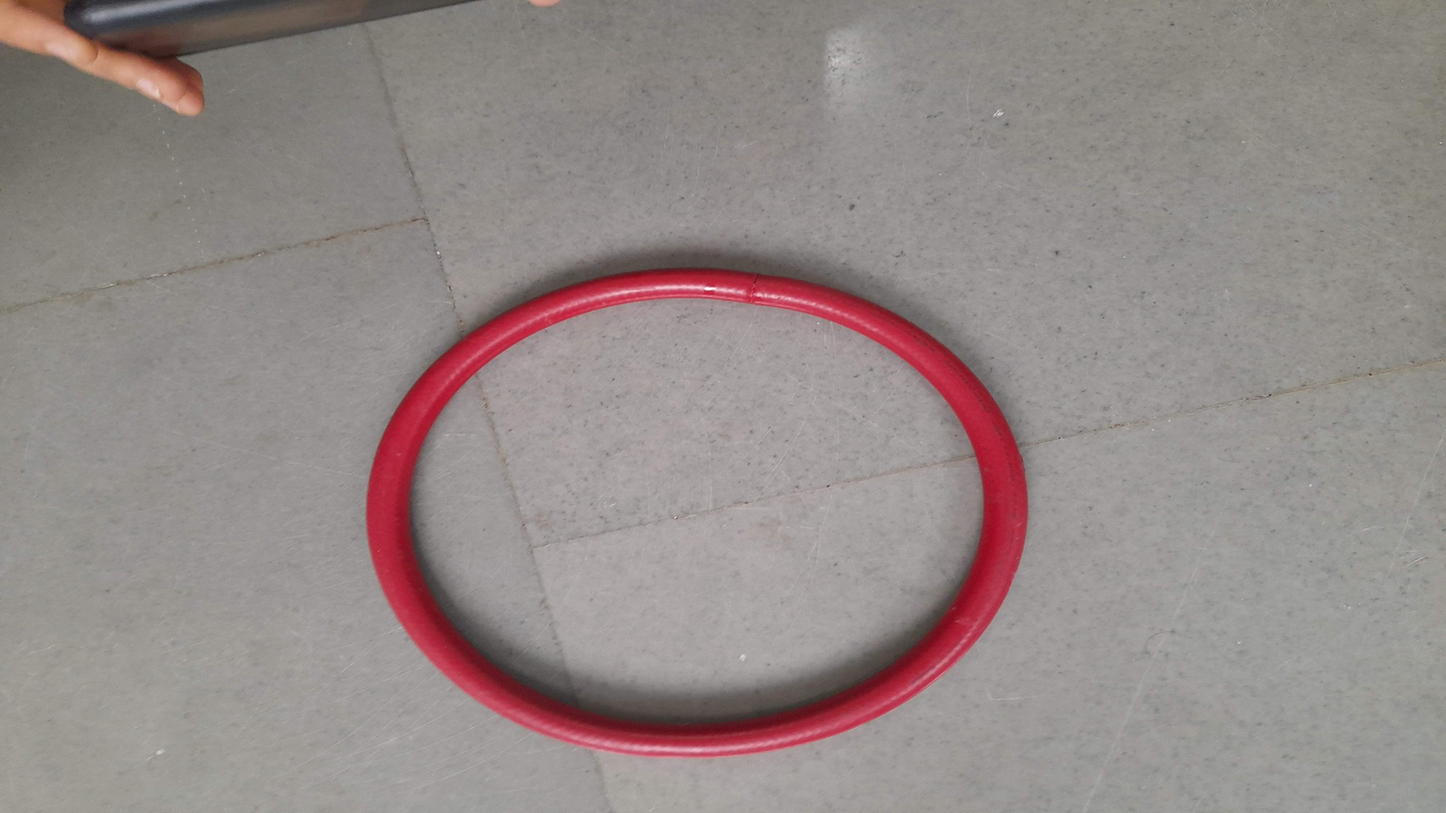Red ring: (366, 269, 1030, 756)
